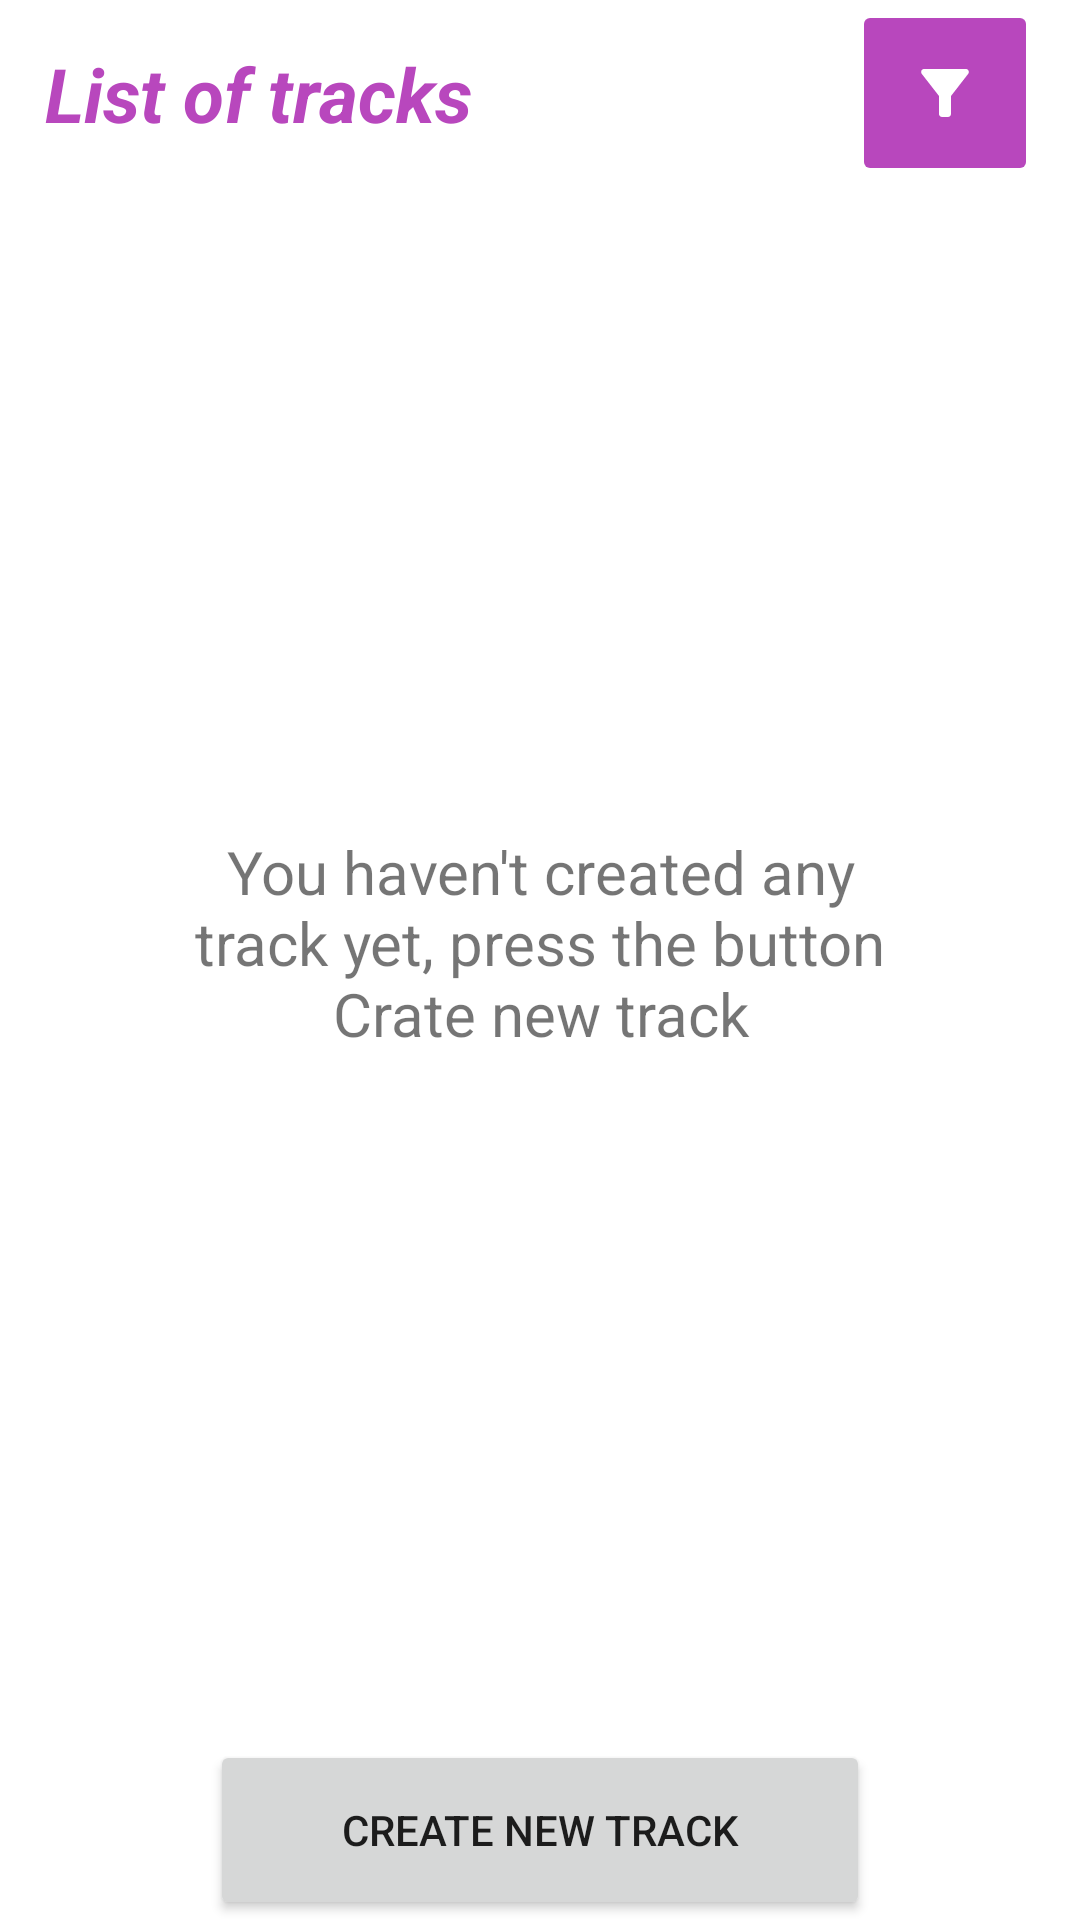

Icon click points for this 1080×1920 phone screenshot, format (x=x, y=y):
filter: (x=945, y=93)
